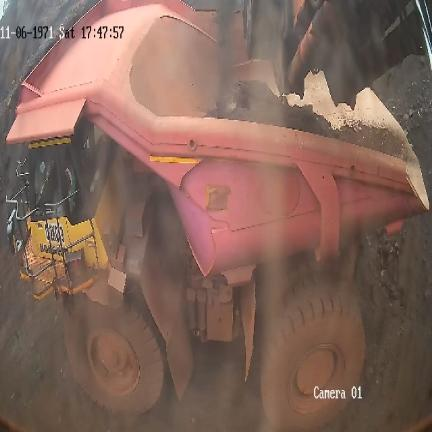pile: (360, 218, 432, 355), (208, 82, 338, 139)
